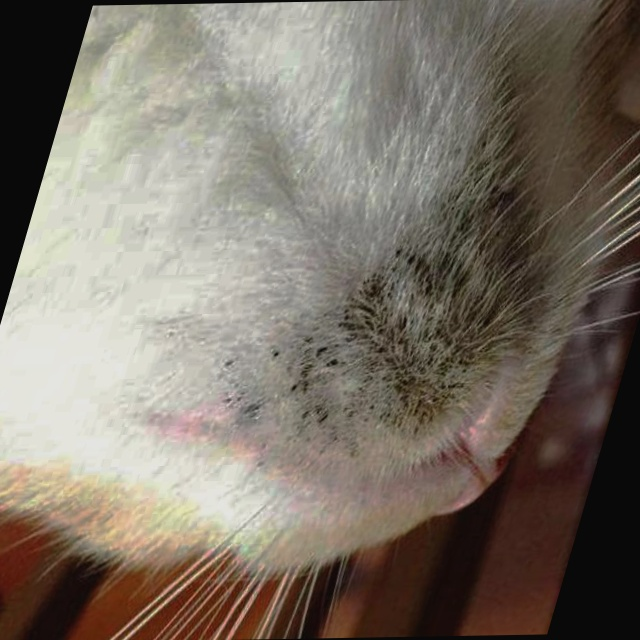acne: (227, 182, 573, 459)
